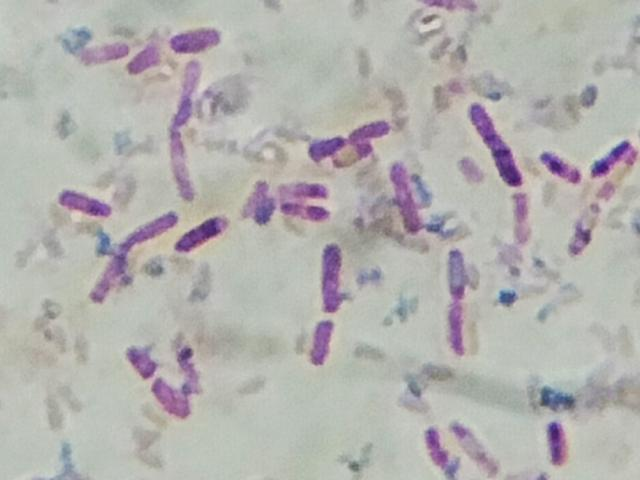E. coli: (468, 102, 516, 176), (451, 417, 503, 475), (382, 157, 421, 233), (316, 236, 350, 315), (168, 127, 201, 203), (539, 412, 576, 474), (149, 375, 195, 424), (121, 205, 178, 243), (93, 245, 126, 309), (53, 182, 110, 218), (181, 212, 228, 255), (173, 58, 208, 115), (572, 194, 607, 251), (305, 317, 341, 366), (538, 143, 580, 184), (169, 25, 225, 53), (448, 297, 473, 358), (75, 35, 129, 62), (418, 423, 447, 473), (241, 177, 272, 223), (501, 190, 526, 245), (131, 40, 168, 77), (442, 243, 469, 293), (122, 342, 156, 379), (593, 135, 630, 169), (345, 119, 392, 144), (282, 176, 336, 197), (305, 129, 343, 157), (291, 199, 326, 223)
